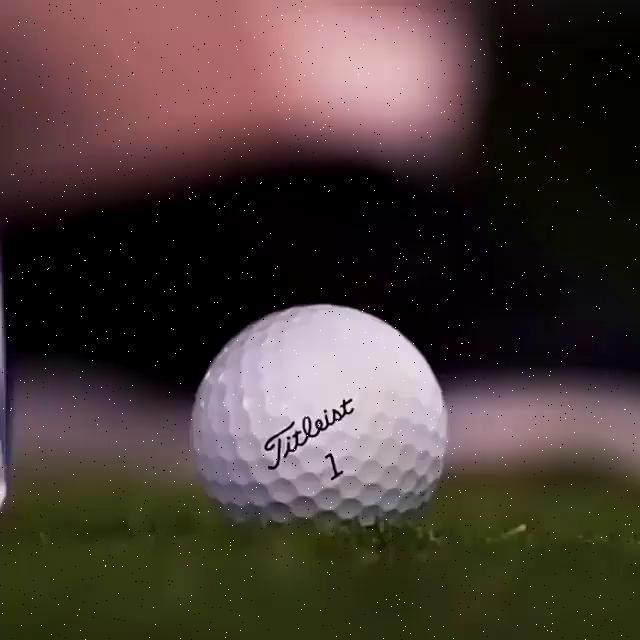GolfBall: (197, 303, 447, 530)
